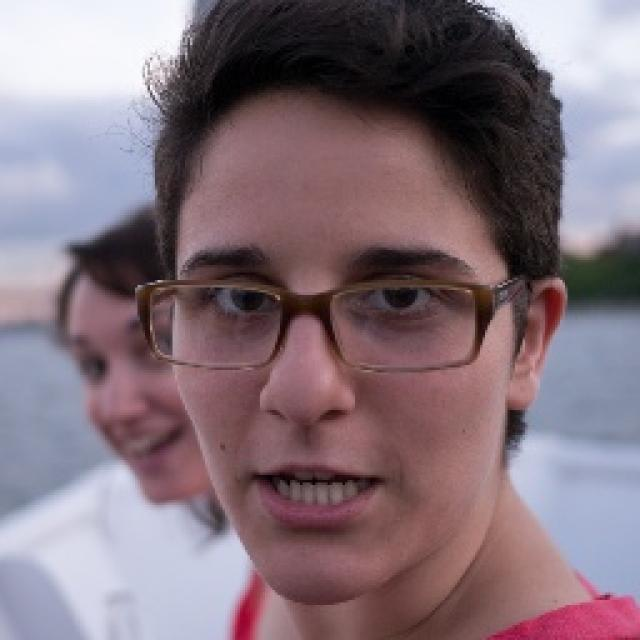earlobe: (504, 368, 538, 413)
eye: (361, 277, 439, 315), (207, 280, 276, 320)
nose: (252, 401, 358, 469)
wholeear: (505, 275, 567, 413)
